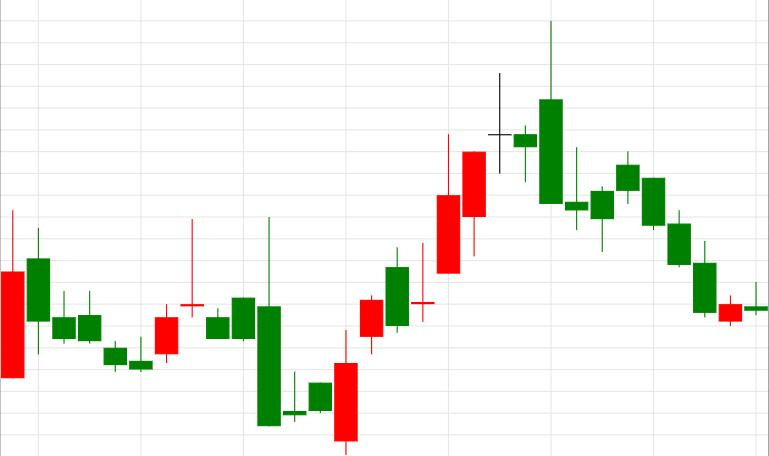bullish_engulfing_rise: (180, 216, 358, 456)
